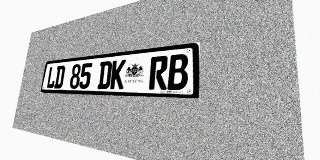5: (79, 63, 93, 89)
8: (69, 64, 82, 89)
B: (167, 53, 189, 90)
D: (97, 61, 112, 89), (54, 65, 66, 88)
K: (110, 59, 126, 89)
L: (46, 66, 57, 88)
R: (149, 55, 168, 90)
